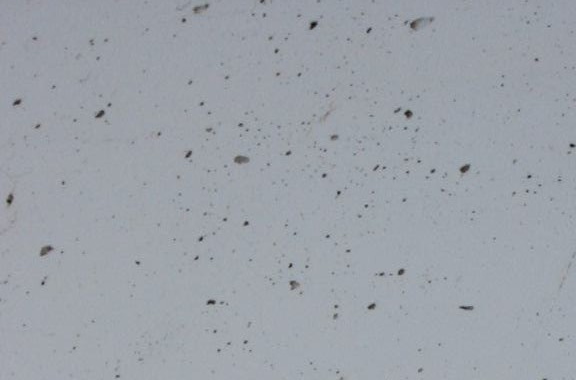Spalling: (1, 1, 576, 380)
